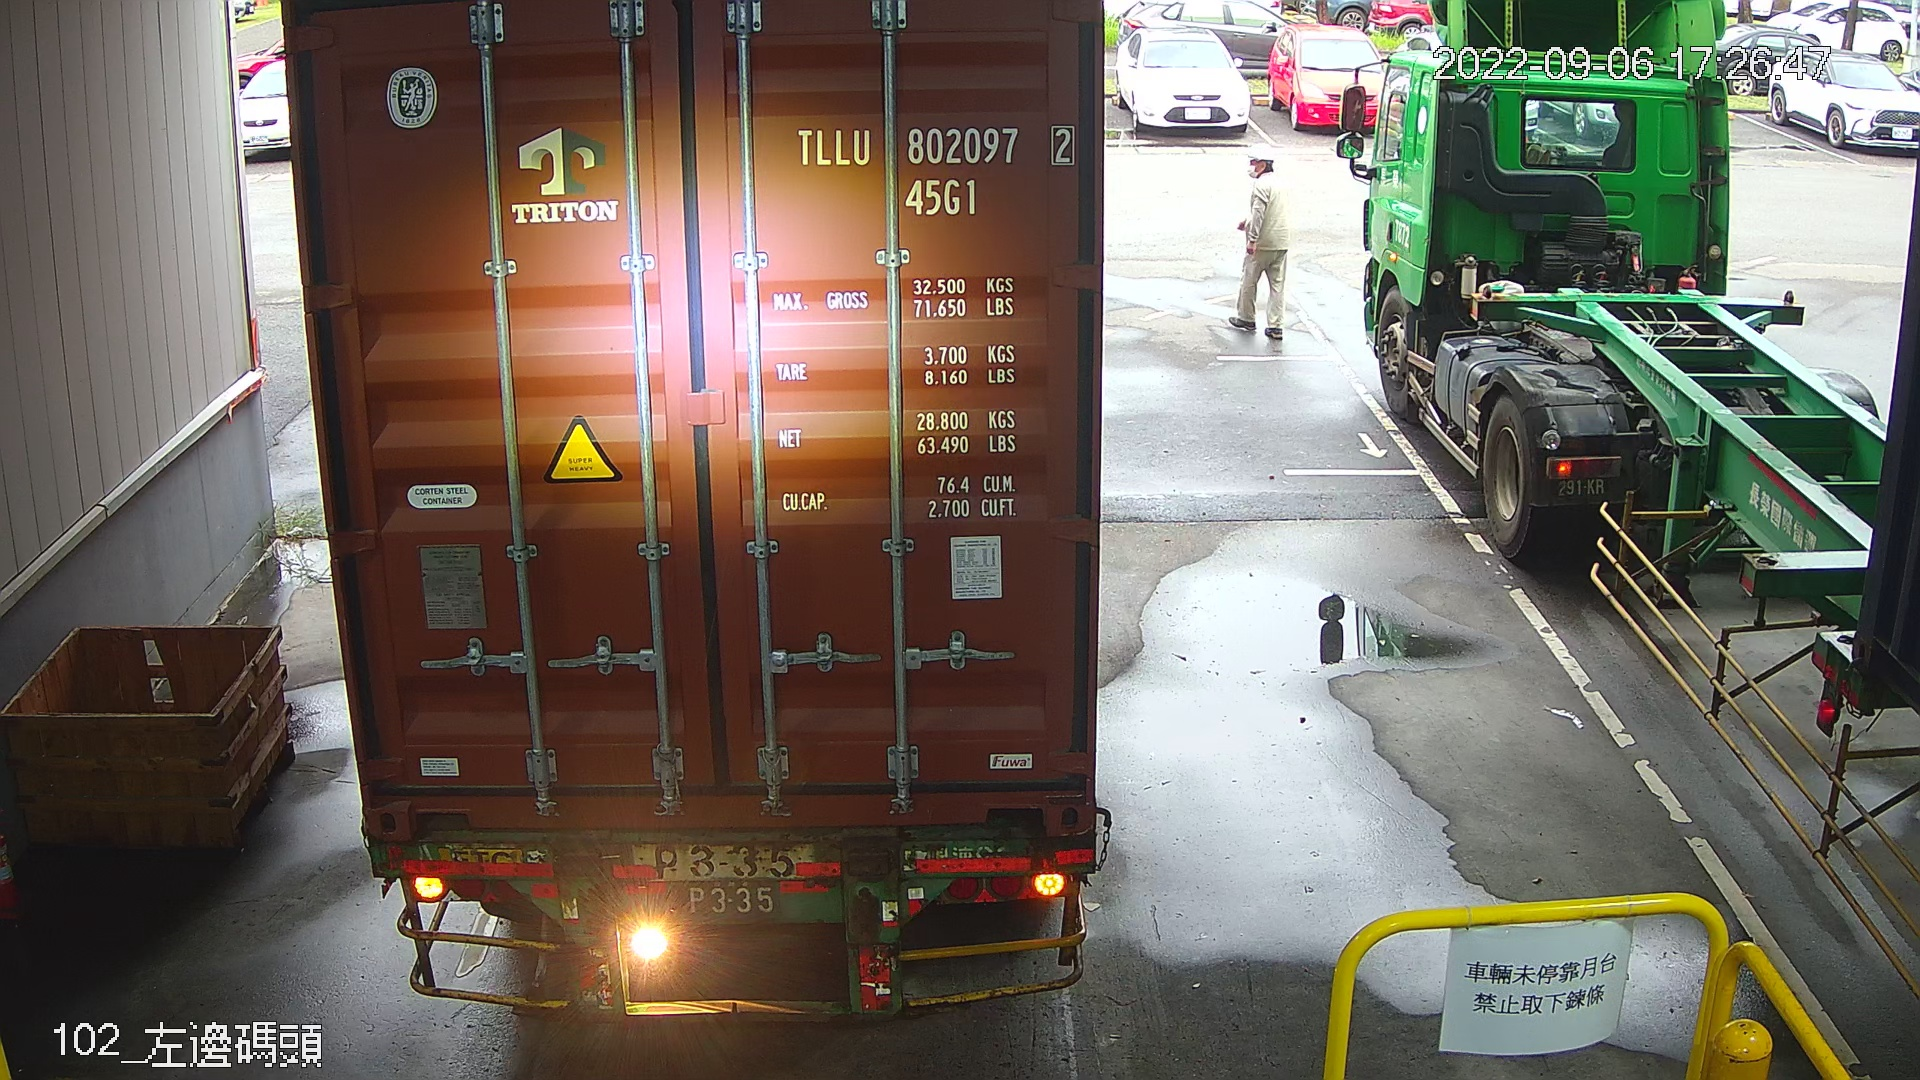container: (787, 113, 1085, 224)
